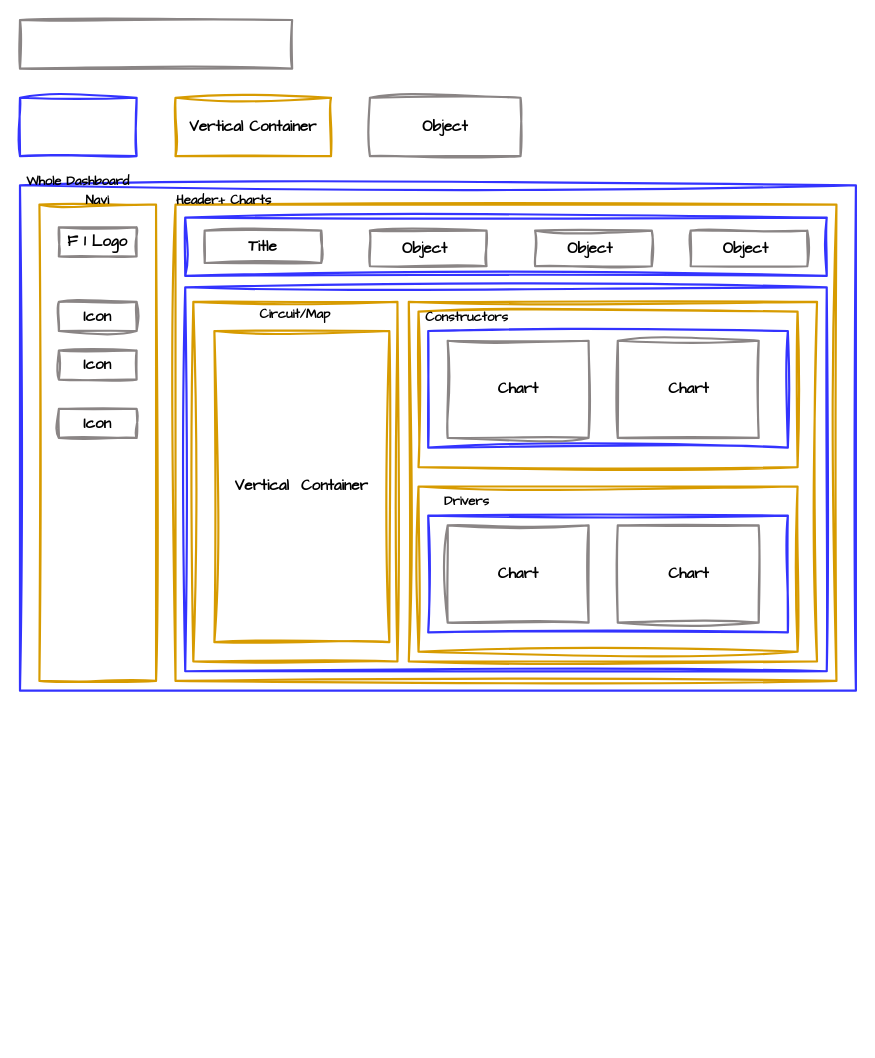
Some shapes in this 875 by 1058 pixel diagram are drawn without their labels. Here are the shapes that lost their labels. From the top down, the centre of each, then its label:
the point at 155,43: F 1 - Rough Tableau Dashboard
the point at 77,126: Horizontal Container
